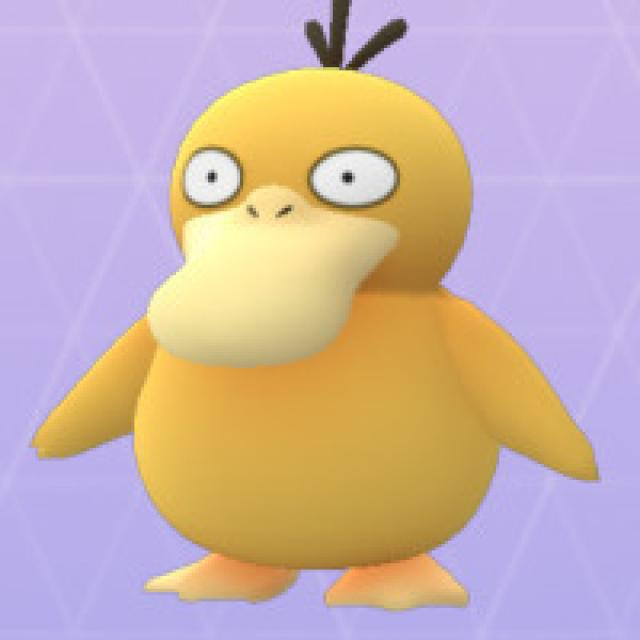Psyduck: (125, 64, 546, 616)
